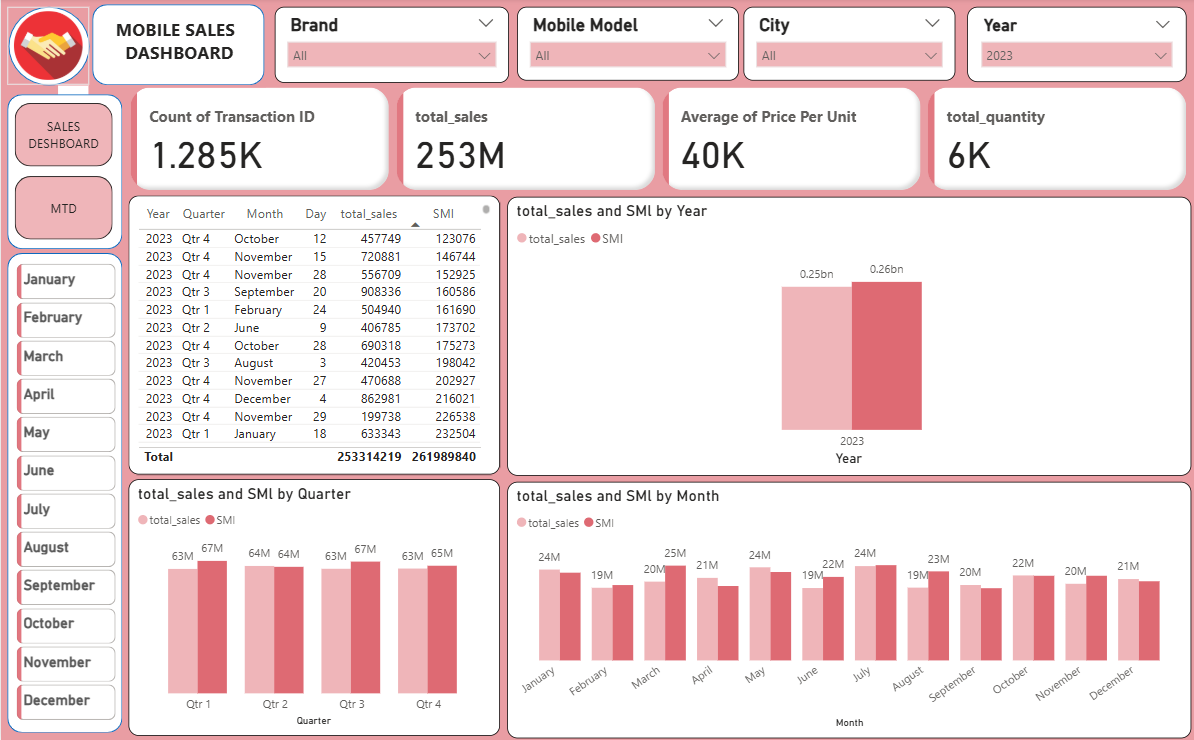

This screenshot's page, from the dashboard's own definition file:
{"tool":"powerbi","page":{"name":"SAME PERIODLAST YEAR","canvas":[1280,800],"ordinal":2},"visuals":[{"type":"shape","box":[8,9.4,87.1,84.5],"z":0},{"type":"image","box":[10.1,10.1,88,82.9],"z":1000},{"type":"shape","box":[6.9,273.1,123.5,514.6],"z":2000},{"type":"shape","box":[6.9,102.9,123.5,166],"z":3000},{"type":"advancedSlicerVisual","fields":{"Values":["Query1.costom_date.Variation.Date Hierarchy.Month"]},"box":[12.3,279.9,116.6,506.3],"z":4000},{"type":"shape","box":[98,6.3,184.7,86.7],"z":5000},{"type":"cardVisual","fields":{"Data":["CountNonNull(Mobile Sales Data.Transaction ID)","Mobile Sales Data.total_sales","Avg(Mobile Sales Data.Price Per Unit)","Mobile Sales Data.total_quantity"]},"box":[134.5,71.4,1144.4,160.5],"z":6000},{"type":"slicer","fields":{"Values":["Mobile Sales Data.Mobile Model"]},"box":[554.2,8.8,237.5,79.2],"z":7000},{"type":"slicer","fields":{"Values":["Mobile Sales Data.City"]},"box":[796.8,10.1,227.5,79.2],"z":8000},{"type":"slicer","fields":{"Values":["Query1.costom_date.Variation.Date Hierarchy.Year"]},"box":[1036.8,8.8,235,80.4],"z":9000},{"type":"slicer","fields":{"Values":["Mobile Sales Data.Brand"]},"box":[294.1,8.8,251.3,81.7],"z":10000},{"type":"textbox","box":[118.1,16.3,152.1,61.6],"z":11000},{"type":"tableEx","fields":{"Values":["Query1.costom_date.Variation.Date Hierarchy.Year","Query1.costom_date.Variation.Date Hierarchy.Quarter","Query1.costom_date.Variation.Date Hierarchy.Month","Query1.costom_date.Variation.Date Hierarchy.Day","Mobile Sales Data.total_sales","Mobile Sales Data.SMl"]},"box":[136.7,211.8,398.1,298.9],"z":12000},{"type":"clusteredColumnChart","fields":{"Y":["Mobile Sales Data.total_sales","Mobile Sales Data.SMl"],"Category":["Query1.costom_date.Variation.Date Hierarchy.Year","Query1.costom_date.Variation.Date Hierarchy.Quarter","Query1.costom_date.Variation.Date Hierarchy.Month","Query1.costom_date.Variation.Date Hierarchy.Day"]},"box":[542.9,213.1,733.2,298.9],"z":13000},{"type":"clusteredColumnChart","fields":{"Category":["Query1.costom_date.Variation.Date Hierarchy.Month"],"Y":["Mobile Sales Data.total_sales","Mobile Sales Data.SMl"]},"box":[542.9,518.8,733.2,274.8],"z":14000},{"type":"clusteredColumnChart","fields":{"Y":["Mobile Sales Data.total_sales","Mobile Sales Data.SMl"],"Category":["Query1.costom_date.Variation.Date Hierarchy.Quarter"]},"box":[136.7,516.1,398.1,274.8],"z":15000},{"type":"pageNavigator","box":[14.7,112.6,105.9,147.5],"z":16000}]}

Visuals, with their boxes in screenshot pixels (x1, y1, x2, y2), scaled from the page's 1280x800 canvas onto the 1194x740 screenshot:
shape: locate(7, 9, 89, 87)
image: locate(9, 9, 92, 86)
shape: locate(6, 253, 122, 729)
shape: locate(6, 95, 122, 249)
advancedSlicerVisual - Query1.costom_date.Variation.Date Hierarchy.Month: locate(11, 259, 120, 727)
shape: locate(91, 6, 264, 86)
cardVisual - CountNonNull(Mobile Sales Data.Transaction ID) x Mobile Sales Data.total_sales: locate(125, 66, 1193, 215)
slicer - Mobile Sales Data.Mobile Model: locate(517, 8, 739, 81)
slicer - Mobile Sales Data.City: locate(743, 9, 955, 83)
slicer - Query1.costom_date.Variation.Date Hierarchy.Year: locate(967, 8, 1186, 83)
slicer - Mobile Sales Data.Brand: locate(274, 8, 509, 84)
textbox: locate(110, 15, 252, 72)
tableEx - Query1.costom_date.Variation.Date Hierarchy.Year x Query1.costom_date.Variation.Date Hierarchy.Quarter: locate(128, 196, 499, 472)
clusteredColumnChart - Mobile Sales Data.total_sales x Mobile Sales Data.SMl: locate(506, 197, 1190, 474)
clusteredColumnChart - Query1.costom_date.Variation.Date Hierarchy.Month x Mobile Sales Data.total_sales: locate(506, 480, 1190, 734)
clusteredColumnChart - Mobile Sales Data.total_sales x Mobile Sales Data.SMl: locate(128, 477, 499, 732)
pageNavigator: locate(14, 104, 112, 241)
